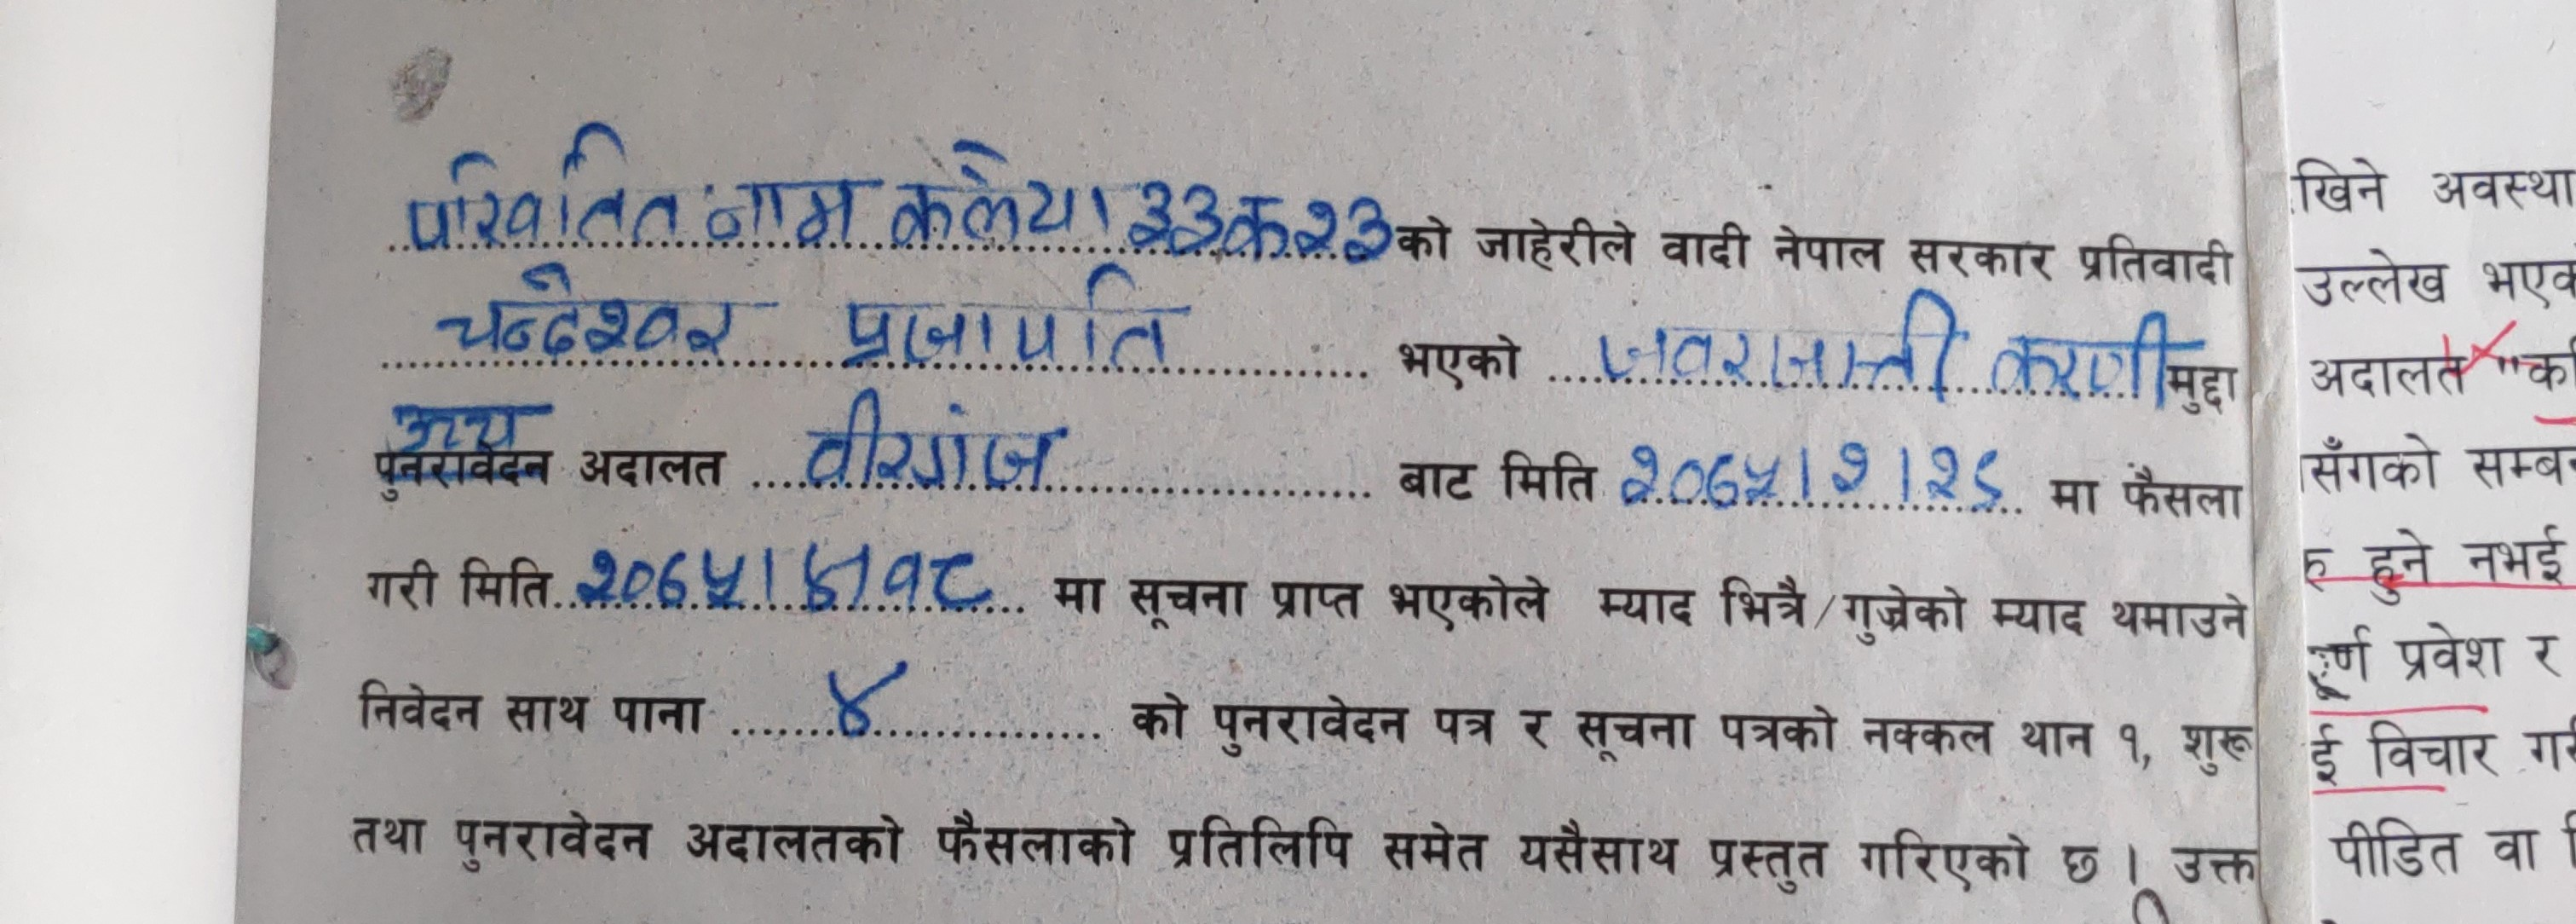text: (1592, 280, 1966, 403), (835, 256, 1180, 375), (404, 117, 688, 247), (573, 538, 996, 623), (1612, 427, 2009, 518), (432, 261, 764, 363), (802, 383, 1065, 497), (885, 140, 1114, 252), (1127, 174, 1393, 268), (1981, 303, 2173, 413), (701, 174, 862, 255), (381, 390, 536, 452), (816, 659, 910, 742)
